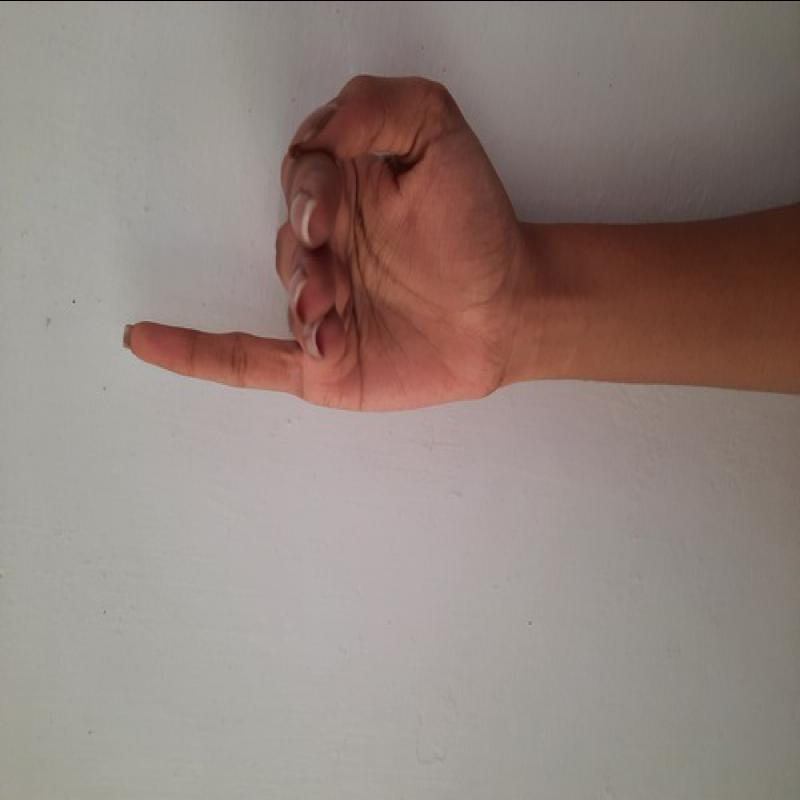Kartharee Mukham: (110, 65, 534, 421)
